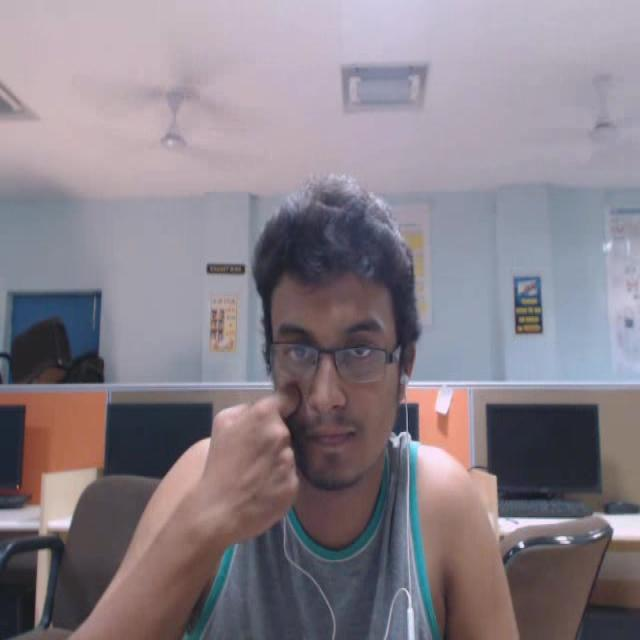Bored: (251, 144, 452, 553)
